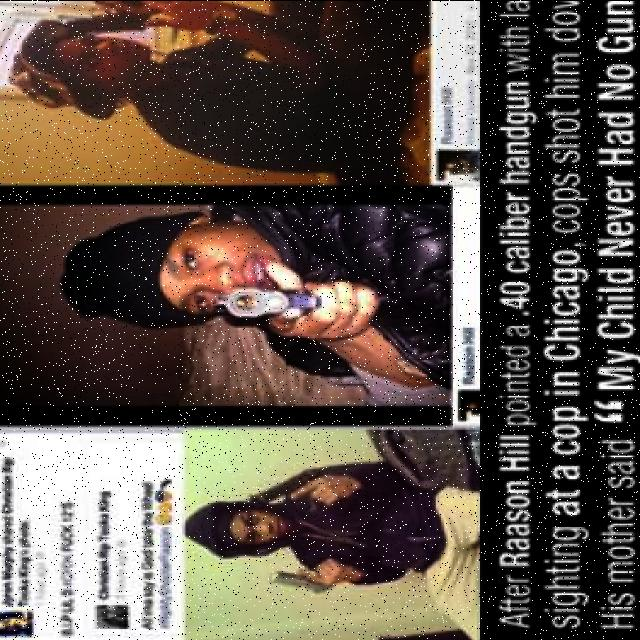Guns: (68, 0, 145, 36)
